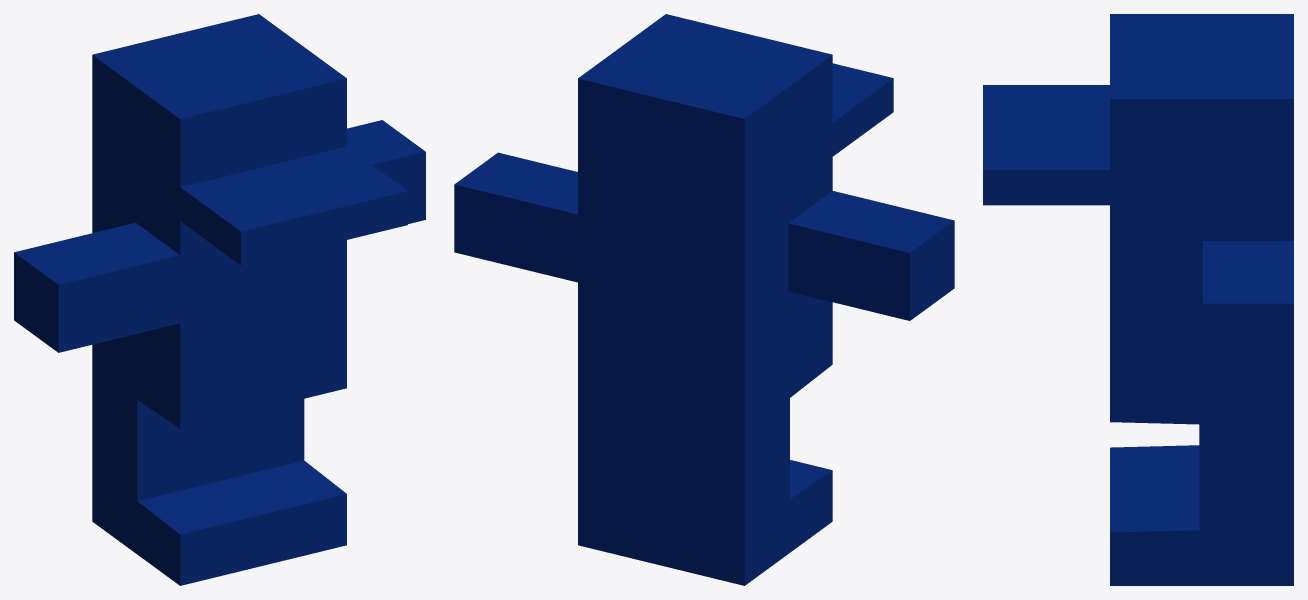
Rendered from player_character.fbx.
3 renders of one model, left to right at view 1: azimuth 30°, elevation 25°; view 2: azimuth 150°, elevation 25°; view 3: azimuth 270°, elevation 25°, orthographic. The views are drawn at different scales.
Parts seen in each view (by area): view 1: PlayerCharacter; view 2: PlayerCharacter; view 3: PlayerCharacter.
Boxes of the visible parts, <box> form: PlayerCharacter: <box>14,14,425,585</box>; PlayerCharacter: <box>454,14,954,585</box>; PlayerCharacter: <box>983,14,1293,585</box>.
Bounding box in the file's own units: 158 × 172 × 99.22.
